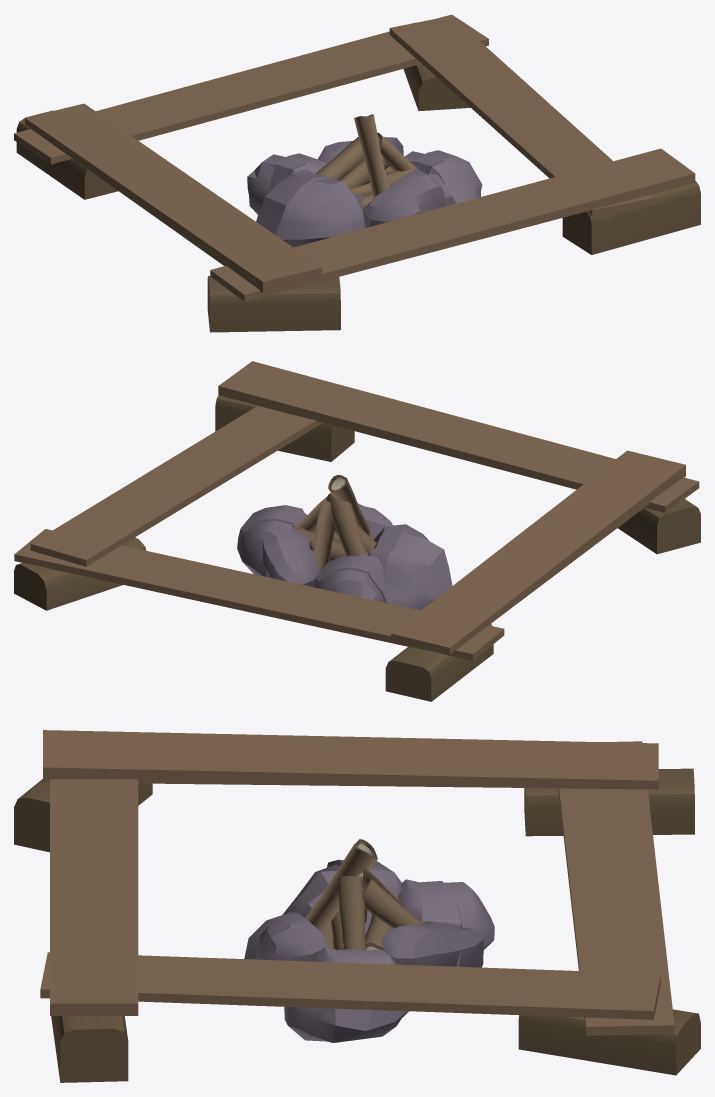
File: P_firePlace_01_LD.fbx
The picture shows the model from 3 angles, top to bottom: view 1: azimuth 30°, elevation 25°; view 2: azimuth 150°, elevation 25°; view 3: azimuth 270°, elevation 25°; orthographic projection. The views are drawn at different scales.
Visible parts, largest first — view 1: P_firePlace_01; view 2: P_firePlace_01; view 3: P_firePlace_01.
Boxes of the visible parts, x1=… form: P_firePlace_01: x1=14, y1=14, x2=700, y2=332; P_firePlace_01: x1=14, y1=361, x2=700, y2=701; P_firePlace_01: x1=14, y1=730, x2=700, y2=1082.
Size of the model in its own units: 381 by 96.02 by 367.
Materials: 1 (1 with a texture image).
